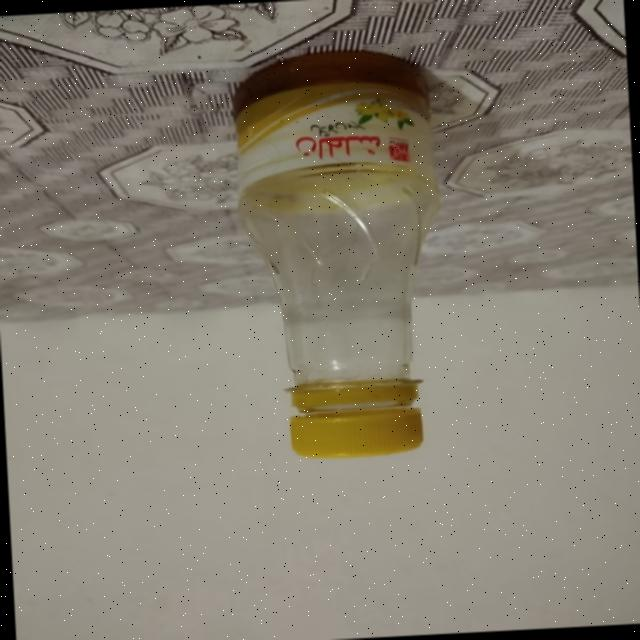bottle: (208, 40, 479, 467)
cap: (271, 372, 418, 462)
label: (228, 52, 438, 196)
